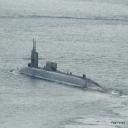submarine: (20, 38, 125, 98)
